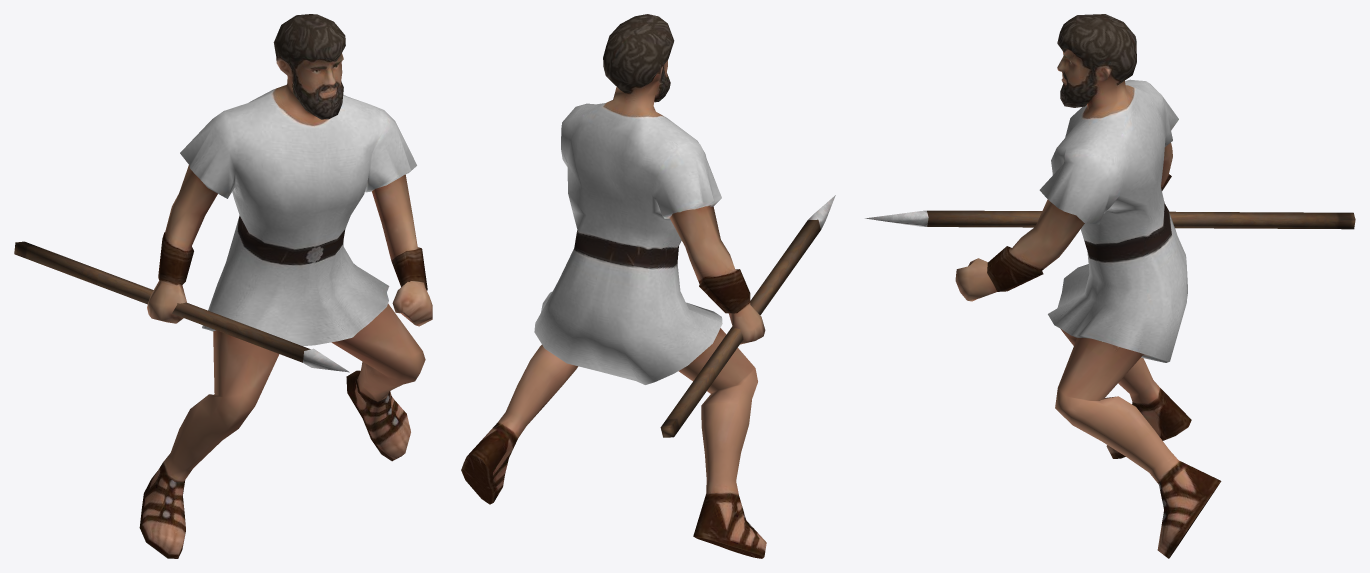
Rendered from rider-base.glb.
The picture shows the model from 3 angles, left to right: view 1: azimuth 30°, elevation 25°; view 2: azimuth 150°, elevation 25°; view 3: azimuth 270°, elevation 25°; orthographic projection. The views are drawn at different scales.
Size of the model in its own units: 1.21 by 1.96 by 1.74.
Materials: 2 (2 with a texture image).
